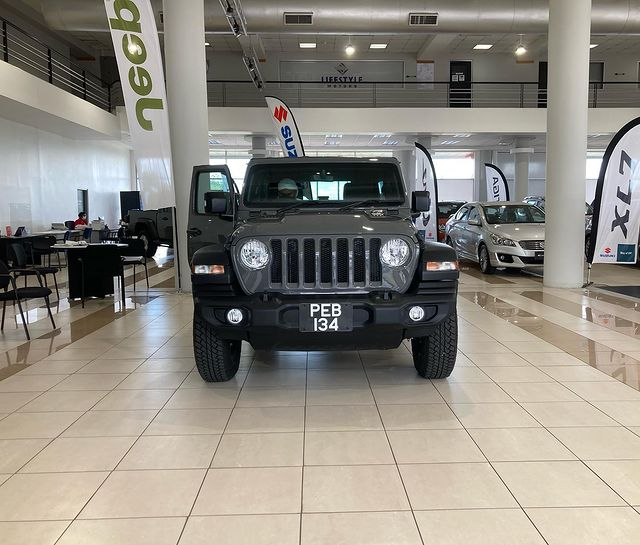License-Plate: (298, 302, 352, 331)
